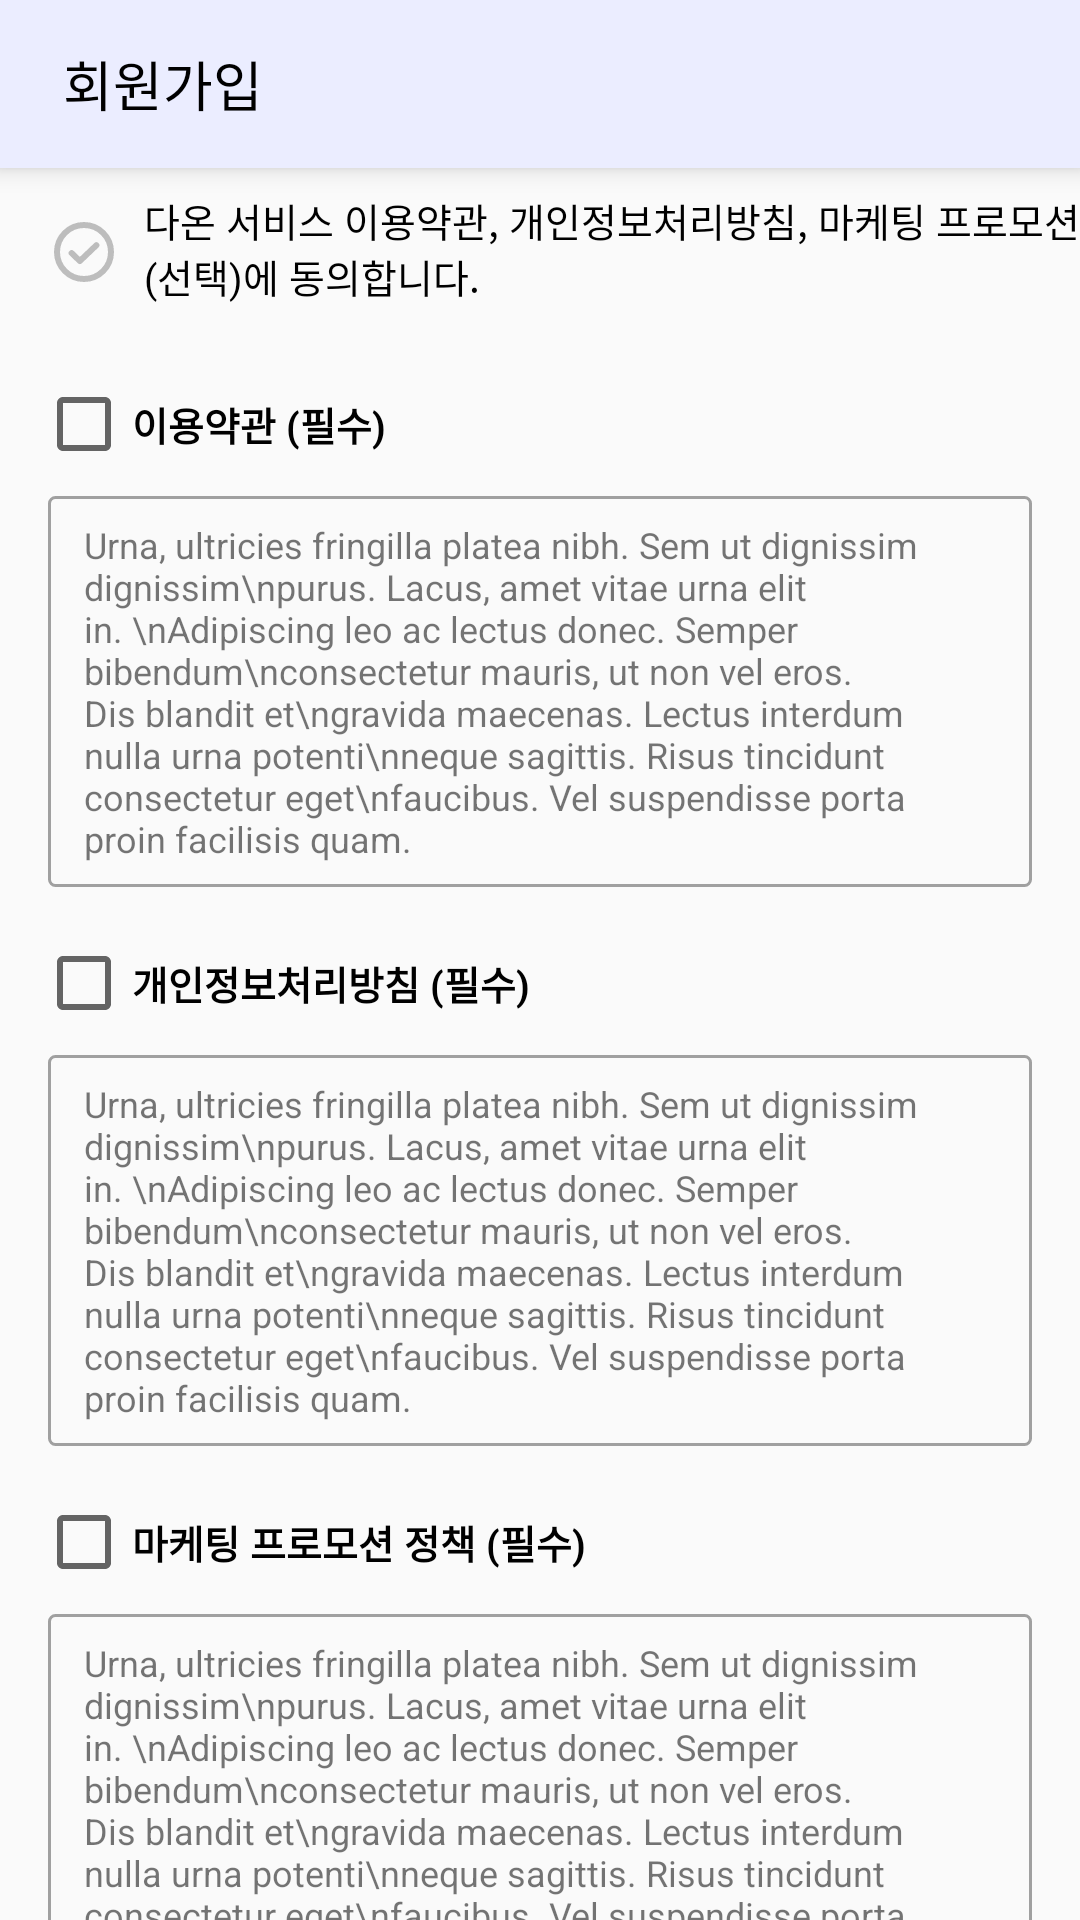

Named icons in this screenshot (1080 x 1920) and their centers, point (x, y):
meeting checkcircle: point (84, 252)
